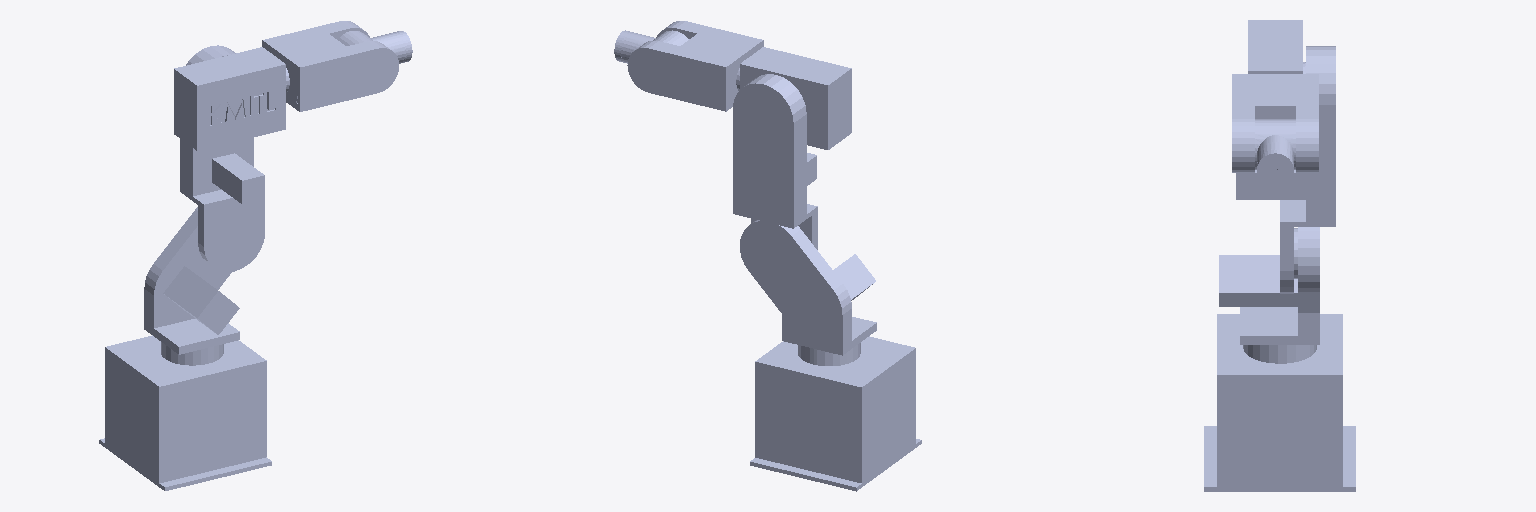
URDF robot description (robot_arm):
<robot
  name="robot_arm">
  <link
    name="base_link">
    <inertial>
      <origin
        xyz="-0.0163394217565966 0.131883399498011 2.18692857394098E-17"
        rpy="0 0 0" />
      <mass
        value="18.9108283391517" />
      <inertia
        ixx="0.212695282584958"
        ixy="-0.00180343937768949"
        ixz="-6.31009152842234E-18"
        iyy="0.220921455454752"
        iyz="2.67805743819707E-18"
        izz="0.238447183977544" />
    </inertial>
    <visual>
      <origin
        xyz="0 0 0"
        rpy="0 0 0" />
      <geometry>
        <mesh
          filename="package://robot_arm/meshes/base_link.STL" />
      </geometry>
      <material
        name="">
        <color
          rgba="0.792156862745098 0.819607843137255 0.933333333333333 1" />
      </material>
    </visual>
    <collision>
      <origin
        xyz="0 0 0"
        rpy="0 0 0" />
      <geometry>
        <mesh
          filename="package://robot_arm/meshes/base_link.STL" />
      </geometry>
    </collision>
  </link>
  <link
    name="link1">
    <inertial>
      <origin
        xyz="-0.0324130123844012 0.121290047017038 0.0226979265299117"
        rpy="0 0 0" />
      <mass
        value="3.70065139252753" />
      <inertia
        ixx="0.0308605887362583"
        ixy="0.0101629900826569"
        ixz="0.00399721201881898"
        iyy="0.0251438518564393"
        iyz="-0.00470620671405856"
        izz="0.0349014936255794" />
    </inertial>
    <visual>
      <origin
        xyz="0 0 0"
        rpy="0 0 0" />
      <geometry>
        <mesh
          filename="package://robot_arm/meshes/link1.STL" />
      </geometry>
      <material
        name="">
        <color
          rgba="0.792156862745098 0.819607843137255 0.933333333333333 1" />
      </material>
    </visual>
    <collision>
      <origin
        xyz="0 0 0"
        rpy="0 0 0" />
      <geometry>
        <mesh
          filename="package://robot_arm/meshes/link1.STL" />
      </geometry>
    </collision>
  </link>
  <joint
    name="joint1"
    type="continuous">
    <origin
      xyz="0 0 0.2985"
      rpy="1.5708 1.2246E-16 3.1416" />
    <parent
      link="base_link" />
    <child
      link="link1" />
    <axis
      xyz="0 1 0" />
  </joint>
  <link
    name="link2">
    <inertial>
      <origin
        xyz="-0.207709331821323 2.77555756156289E-17 0.0582458729686075"
        rpy="0 0 0" />
      <mass
        value="4.55236008769385" />
      <inertia
        ixx="0.0164015938648347"
        ixy="6.73338392887757E-19"
        ixz="0.0121743664165715"
        iyy="0.0781209272366003"
        iyz="-3.99261421698277E-19"
        izz="0.0787033683407758" />
    </inertial>
    <visual>
      <origin
        xyz="0 0 0"
        rpy="0 0 0" />
      <geometry>
        <mesh
          filename="package://robot_arm/meshes/link2.STL" />
      </geometry>
      <material
        name="">
        <color
          rgba="0.792156862745098 0.819607843137255 0.933333333333333 1" />
      </material>
    </visual>
    <collision>
      <origin
        xyz="0 0 0"
        rpy="0 0 0" />
      <geometry>
        <mesh
          filename="package://robot_arm/meshes/link2.STL" />
      </geometry>
    </collision>
  </link>
  <joint
    name="joint2"
    type="continuous">
    <origin
      xyz="-0.11173 0.21472 0"
      rpy="1.2246E-16 5.6655E-16 -1.5708" />
    <parent
      link="link1" />
    <child
      link="link2" />
    <axis
      xyz="0 0 -1" />
  </joint>
  <link
    name="link3">
    <inertial>
      <origin
        xyz="-0.00850435418756772 0.000172574875469289 -0.0166293318188862"
        rpy="0 0 0" />
      <mass
        value="4.23077504859608" />
      <inertia
        ixx="0.0291932491805076"
        ixy="1.7340672583566E-06"
        ixz="-2.30117965432488E-05"
        iyy="0.0237849655063721"
        iyz="-8.33771998056093E-05"
        izz="0.0136930228071593" />
    </inertial>
    <visual>
      <origin
        xyz="0 0 0"
        rpy="0 0 0" />
      <geometry>
        <mesh
          filename="package://robot_arm/meshes/link3.STL" />
      </geometry>
      <material
        name="">
        <color
          rgba="0.792156862745098 0.819607843137255 0.933333333333333 1" />
      </material>
    </visual>
    <collision>
      <origin
        xyz="0 0 0"
        rpy="0 0 0" />
      <geometry>
        <mesh
          filename="package://robot_arm/meshes/link3.STL" />
      </geometry>
    </collision>
  </link>
  <joint
    name="joint3"
    type="continuous">
    <origin
      xyz="-0.362 0 0"
      rpy="1.5708 -1.5708 0" />
    <parent
      link="link2" />
    <child
      link="link3" />
    <axis
      xyz="-1 0 0" />
  </joint>
  <link
    name="link4">
    <inertial>
      <origin
        xyz="-0.120663321974302 4.00909745517514E-06 0.0002731993727767"
        rpy="0 0 0" />
      <mass
        value="4.02816265037742" />
      <inertia
        ixx="0.0156652926686202"
        ixy="-1.69831368122558E-06"
        ixz="3.0492117019311E-06"
        iyy="0.0237320181925239"
        iyz="-5.19552566779549E-07"
        izz="0.0311669421714718" />
    </inertial>
    <visual>
      <origin
        xyz="0 0 0"
        rpy="0 0 0" />
      <geometry>
        <mesh
          filename="package://robot_arm/meshes/link4.STL" />
      </geometry>
      <material
        name="">
        <color
          rgba="0.792156862745098 0.819607843137255 0.933333333333333 1" />
      </material>
    </visual>
    <collision>
      <origin
        xyz="0 0 0"
        rpy="0 0 0" />
      <geometry>
        <mesh
          filename="package://robot_arm/meshes/link4.STL" />
      </geometry>
    </collision>
  </link>
  <joint
    name="joint4"
    type="continuous">
    <origin
      xyz="-0.009 0.0265 0.10338"
      rpy="1.5708 1.5708 0" />
    <parent
      link="link3" />
    <child
      link="link4" />
    <axis
      xyz="-1 0 0" />
  </joint>
  <link
    name="link5">
    <inertial>
      <origin
        xyz="0.0200197340210295 -9.89015036534369E-09 9.64568895936435E-09"
        rpy="0 0 0" />
      <mass
        value="0.861034324370319" />
      <inertia
        ixx="0.000886311352063659"
        ixy="-4.73327292478624E-10"
        ixz="-3.03532558474303E-10"
        iyy="0.00179697837872441"
        iyz="7.80560582773131E-10"
        izz="0.0018615575607953" />
    </inertial>
    <visual>
      <origin
        xyz="0 0 0"
        rpy="0 0 0" />
      <geometry>
        <mesh
          filename="package://robot_arm/meshes/link5.STL" />
      </geometry>
      <material
        name="">
        <color
          rgba="0.792156862745098 0.819607843137255 0.933333333333333 1" />
      </material>
    </visual>
    <collision>
      <origin
        xyz="0 0 0"
        rpy="0 0 0" />
      <geometry>
        <mesh
          filename="package://robot_arm/meshes/link5.STL" />
      </geometry>
    </collision>
  </link>
  <joint
    name="joint5"
    type="continuous">
    <origin
      xyz="-0.22079 0 0.000280000000000058"
      rpy="1.5707963267949 0 3.14159265358979" />
    <parent
      link="link4" />
    <child
      link="link5" />
    <axis
      xyz="0 0 1" />
  </joint>
  <link
    name="link6">
    <inertial>
      <origin
        xyz="-2.66574956553356E-14 1.78917468729445E-06 0.00899228681916053"
        rpy="0 0 0" />
      <mass
        value="0.0752686613592208" />
      <inertia
        ixx="2.71201119967478E-05"
        ixy="-1.08133082148126E-17"
        ixz="1.707256650754E-17"
        iyy="2.71208376649454E-05"
        iyz="-1.14572338570516E-09"
        izz="5.01826435527333E-05" />
    </inertial>
    <visual>
      <origin
        xyz="0 0 0"
        rpy="0 0 0" />
      <geometry>
        <mesh
          filename="package://robot_arm/meshes/link6.STL" />
      </geometry>
      <material
        name="">
        <color
          rgba="0.792156862745098 0.819607843137255 0.933333333333333 1" />
      </material>
    </visual>
    <collision>
      <origin
        xyz="0 0 0"
        rpy="0 0 0" />
      <geometry>
        <mesh
          filename="package://robot_arm/meshes/link6.STL" />
      </geometry>
    </collision>
  </link>
  <joint
    name="joint6"
    type="continuous">
    <origin
      xyz="0.102 0 0"
      rpy="-1.5707963267949 1.57079631189374 -1.5707963267949" />
    <parent
      link="link5" />
    <child
      link="link6" />
    <axis
      xyz="0 0 1" />
  </joint>
</robot>

--- Facts derived from the render (not from the file) ---
Views: 3 orthographic renders of the robot side by side, from view 1: azimuth 30°, elevation 25°; view 2: azimuth 150°, elevation 25°; view 3: azimuth 270°, elevation 25°.
Model robot_arm with 7 links and 6 joints (6 continuous), rooted at base_link, posed every joint at zero.
Visible links, largest first — view 1: base_link, link3, link2, link1, link4, link5; view 2: base_link, link2, link1, link4, link3, link5; view 3: base_link, link1, link2, link4, link3, link5, link6.
Boxes of the visible links, left/top/right/bottom form: base_link: left=99, top=335, right=271, bottom=490; link3: left=174, top=47, right=286, bottom=150; link2: left=180, top=45, right=264, bottom=271; link1: left=144, top=207, right=239, bottom=354; link4: left=262, top=21, right=398, bottom=111; link5: left=338, top=31, right=405, bottom=63; base_link: left=750, top=336, right=921, bottom=491; link2: left=733, top=74, right=817, bottom=249; link1: left=740, top=220, right=876, bottom=355; link4: left=627, top=21, right=763, bottom=111; link3: left=740, top=47, right=851, bottom=149; link5: left=621, top=30, right=688, bottom=63; base_link: left=1204, top=314, right=1355, bottom=491; link1: left=1219, top=227, right=1319, bottom=344; link2: left=1236, top=46, right=1335, bottom=293; link4: left=1232, top=74, right=1318, bottom=172; link3: left=1248, top=20, right=1304, bottom=73; link5: left=1255, top=119, right=1295, bottom=169; link6: left=1257, top=150, right=1293, bottom=186.
Bounding box of the posed robot: 0.7149 × 0.3 × 0.9579 m (x, y, z).
Meshes: 7 distinct files referenced, 7 mesh visuals loaded (7 binary STL).